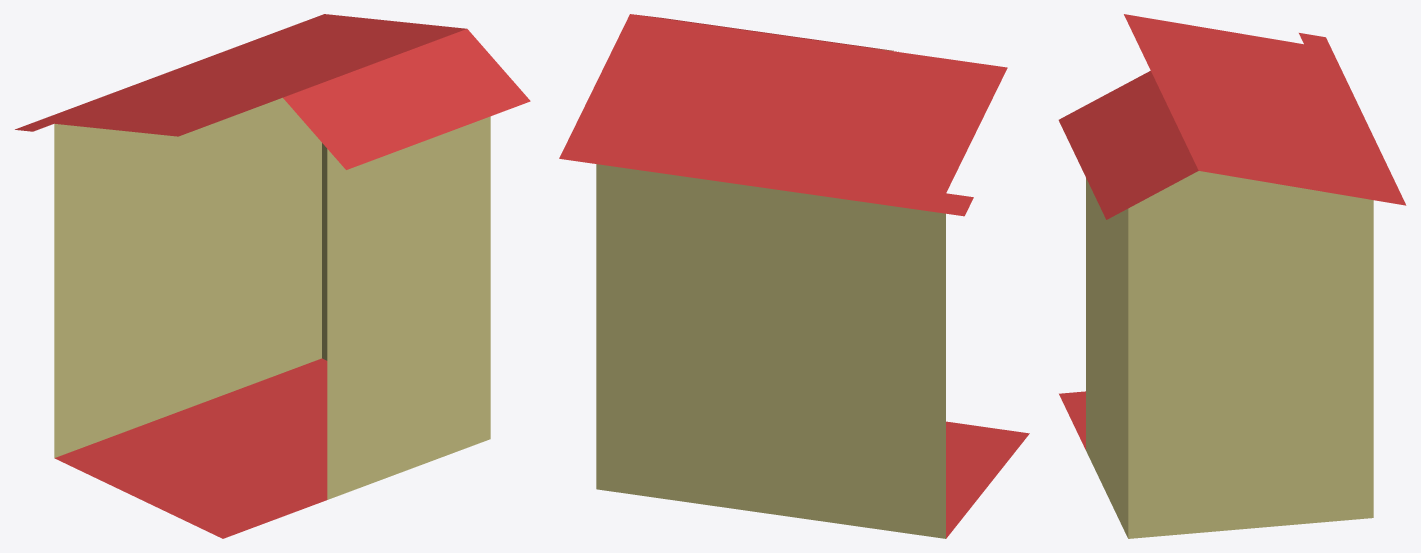
3 views of the same model, side by side, from view 1: azimuth 30°, elevation 25°; view 2: azimuth 150°, elevation 25°; view 3: azimuth 270°, elevation 25° (orthographic). The views are drawn at different scales.
Size of the model in its own units: 8.22 by 6.23 by 7.39.
